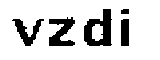d: (82, 5, 115, 49)
i: (120, 6, 139, 51)
v: (10, 14, 43, 49)
z: (47, 15, 78, 48)
